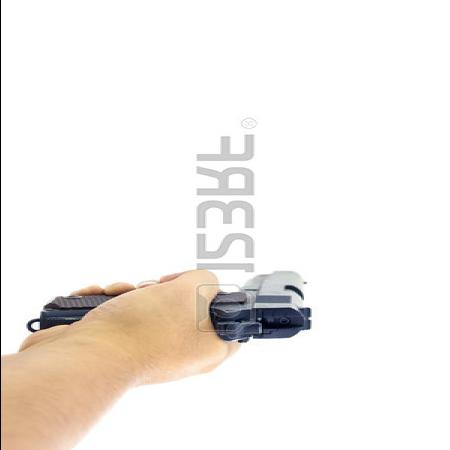Pistol: (41, 272, 315, 344)
